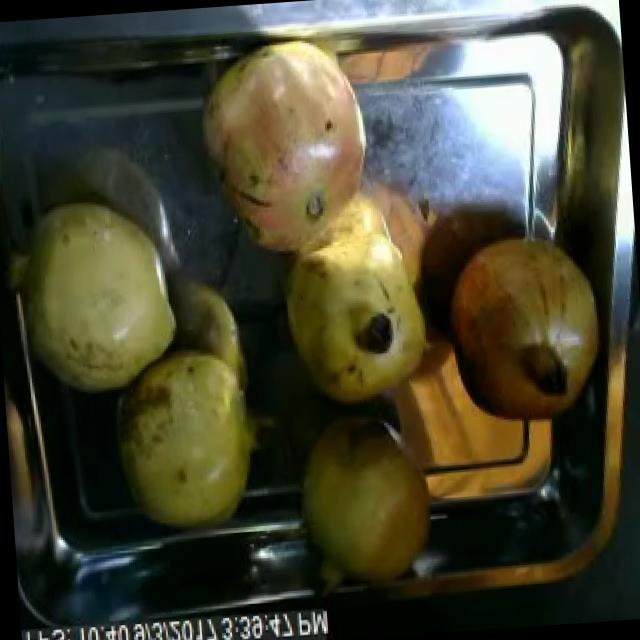fruit: (186, 25, 390, 276), (0, 183, 188, 406), (434, 218, 614, 441), (106, 337, 266, 538), (290, 397, 445, 602), (277, 238, 442, 412)
